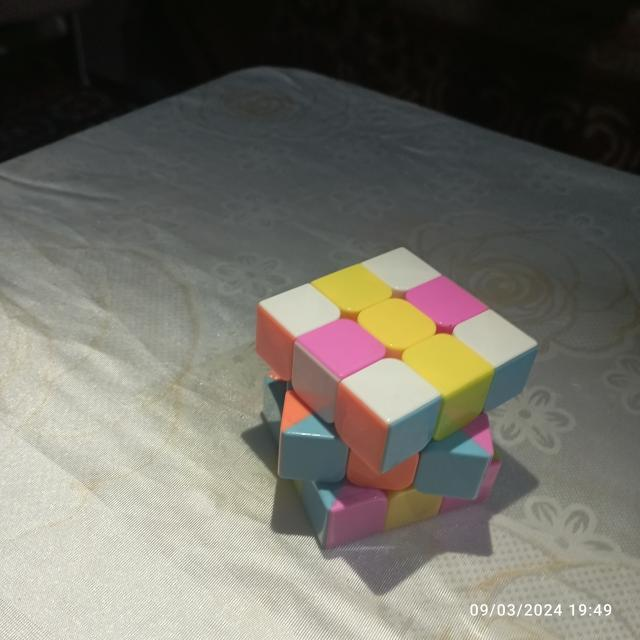Rub: (250, 242, 542, 552)
